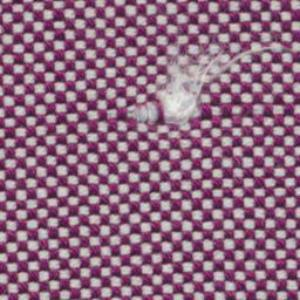fault: (116, 41, 283, 131)
